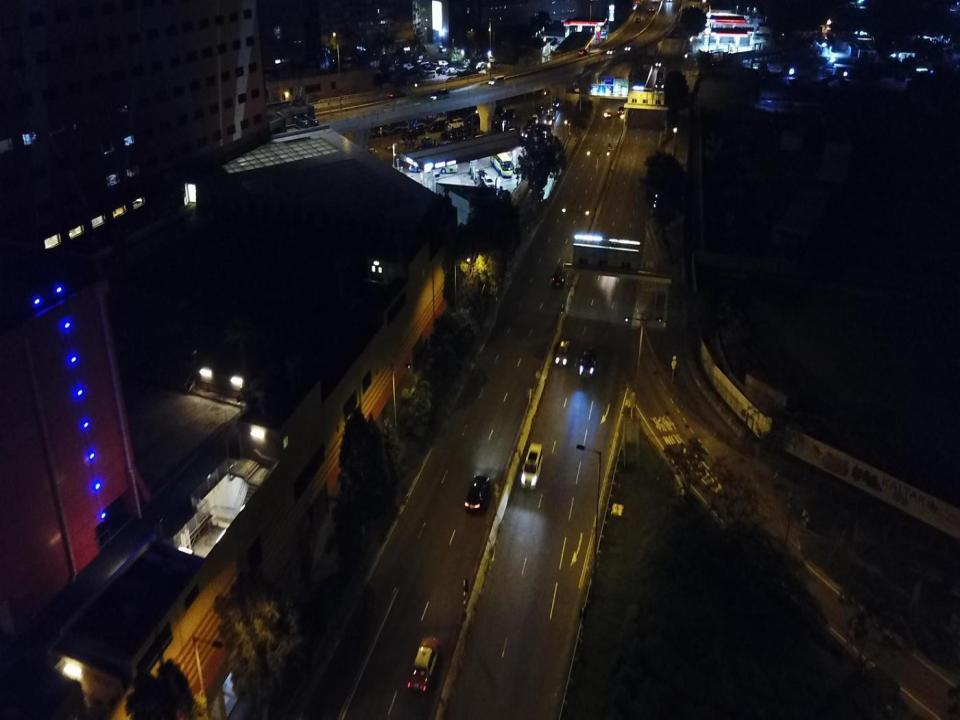bus: (409, 154, 458, 174), (490, 147, 513, 178), (656, 66, 666, 88)
car: (407, 635, 438, 692), (521, 442, 543, 492), (464, 475, 489, 511), (578, 348, 596, 378), (555, 339, 570, 365), (388, 90, 405, 99), (421, 136, 433, 146), (552, 97, 562, 107), (536, 104, 544, 116), (412, 67, 425, 74), (547, 106, 556, 116), (545, 115, 554, 125), (617, 106, 625, 116), (446, 69, 458, 75), (443, 68, 455, 74), (578, 49, 588, 56), (655, 57, 662, 66), (605, 108, 611, 118), (438, 46, 446, 52), (649, 6, 654, 11)
truck: (572, 82, 580, 94), (635, 14, 641, 23)
van: (552, 265, 566, 288), (402, 124, 426, 137), (432, 88, 448, 100), (488, 75, 506, 85), (500, 108, 516, 119), (448, 118, 464, 129), (430, 122, 444, 132), (437, 141, 452, 150), (483, 176, 494, 188), (489, 107, 504, 115), (424, 70, 436, 78), (402, 62, 414, 70), (437, 59, 448, 67), (418, 59, 429, 67), (388, 64, 399, 71)
